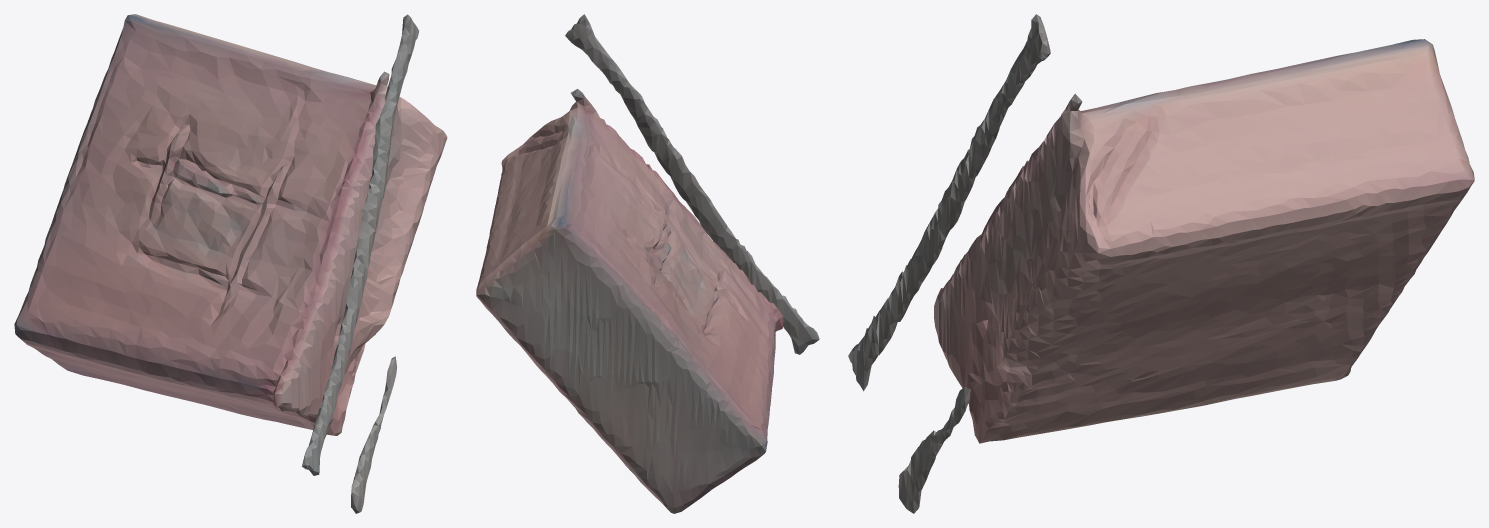
The model's file is TestPurse.glb.
3 views of the same model, side by side, from view 1: azimuth 30°, elevation 25°; view 2: azimuth 150°, elevation 25°; view 3: azimuth 270°, elevation 25° (orthographic). The views are drawn at different scales.
Visible parts, largest first — view 1: world; view 2: world; view 3: world.
Boxes of the visible parts, x1,y1,x2,y2 form: world: (14,14,447,513); world: (476,14,819,513); world: (848,14,1474,513).
Bounding box in the file's own units: 0.9206 × 1.08 × 1.1.
